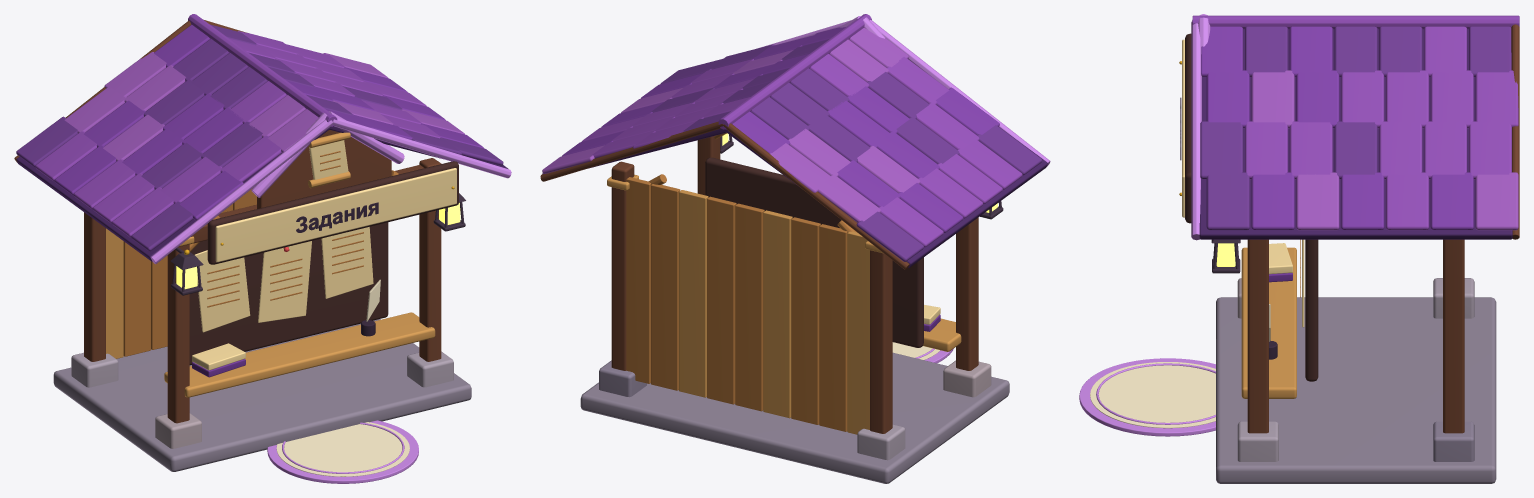
File: Pavilion_Quests.glb
The picture shows the model from 3 angles, left to right: view 1: azimuth 30°, elevation 25°; view 2: azimuth 150°, elevation 25°; view 3: azimuth 270°, elevation 25°; orthographic projection. The views are drawn at different scales.
Parts seen in each view (by area): view 1: Pavilion_Quests__Roof, Pavilion_Quests__Structure, Pavilion_Quests__DisplayProps, Pavilion_Quests__SignFrame, Pavilion_Quests__Marker, Pavilion_Quests__Emblem, Pavilion_Quests__Fixtures, Pavilion_Quests__SignText, Pavilion_Quests__Glow; view 2: Pavilion_Quests__Structure, Pavilion_Quests__Roof, Pavilion_Quests__DisplayProps, Pavilion_Quests__Marker; view 3: Pavilion_Quests__Roof, Pavilion_Quests__Structure, Pavilion_Quests__Marker, Pavilion_Quests__DisplayProps, Pavilion_Quests__SignFrame, Pavilion_Quests__Fixtures.
Boxes of the visible parts, x1=… form: Pavilion_Quests__Roof: x1=14, y1=14, x2=511, y2=263; Pavilion_Quests__Structure: x1=53, y1=158, x2=471, y2=471; Pavilion_Quests__DisplayProps: x1=164, y1=222, x2=435, y2=397; Pavilion_Quests__SignFrame: x1=207, y1=161, x2=458, y2=264; Pavilion_Quests__Marker: x1=267, y1=420, x2=418, y2=483; Pavilion_Quests__Emblem: x1=308, y1=132, x2=350, y2=187; Pavilion_Quests__Fixtures: x1=170, y1=193, x2=465, y2=295; Pavilion_Quests__SignText: x1=296, y1=202, x2=378, y2=232; Pavilion_Quests__Glow: x1=176, y1=202, x2=460, y2=289; Pavilion_Quests__Structure: x1=580, y1=132, x2=1009, y2=483; Pavilion_Quests__Roof: x1=540, y1=14, x2=1050, y2=269; Pavilion_Quests__DisplayProps: x1=705, y1=157, x2=961, y2=351; Pavilion_Quests__Marker: x1=892, y1=342, x2=953, y2=363; Pavilion_Quests__Roof: x1=1191, y1=14, x2=1519, y2=240; Pavilion_Quests__Structure: x1=1216, y1=239, x2=1496, y2=483; Pavilion_Quests__Marker: x1=1079, y1=358, x2=1215, y2=436; Pavilion_Quests__DisplayProps: x1=1241, y1=239, x2=1318, y2=398; Pavilion_Quests__SignFrame: x1=1179, y1=33, x2=1191, y2=223; Pavilion_Quests__Fixtures: x1=1211, y1=239, x2=1240, y2=273.
Size of the model in its own units: 13.14 by 11.49 by 11.93.
